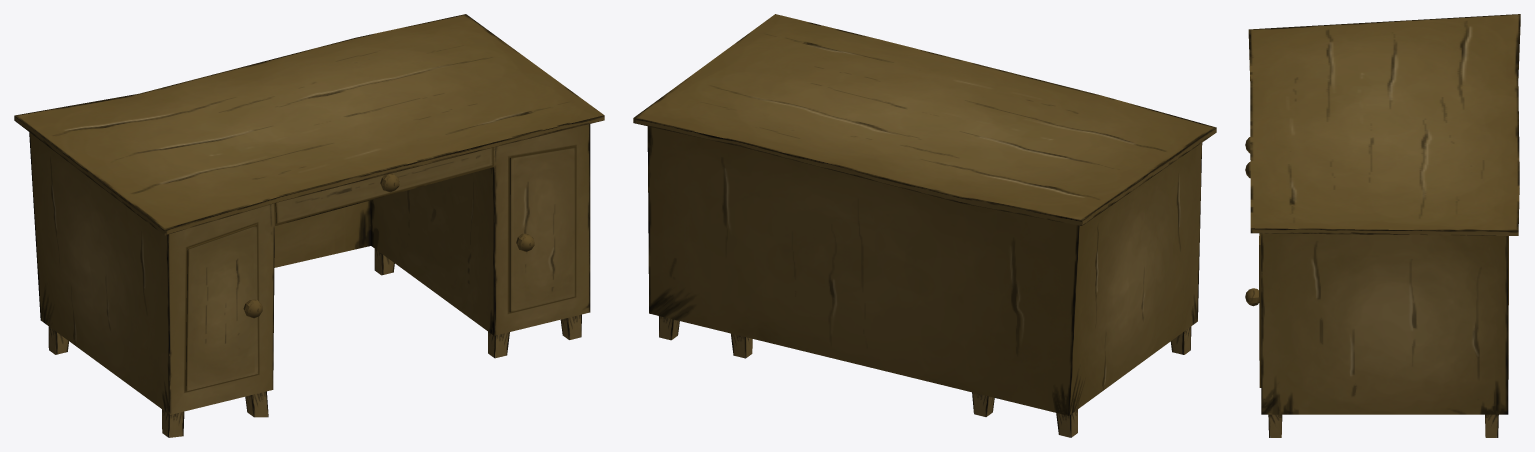
File: Nancy_table.fbx
3 renders of one model, left to right at view 1: azimuth 30°, elevation 25°; view 2: azimuth 150°, elevation 25°; view 3: azimuth 270°, elevation 25°, orthographic. The views are drawn at different scales.
Visible parts, largest first — view 1: Nancy_table; view 2: Nancy_table; view 3: Nancy_table.
Boxes of the visible parts, x1,y1,x2,y2 form: Nancy_table: (14,14,604,437); Nancy_table: (633,14,1216,437); Nancy_table: (1245,14,1520,437).
Size of the model in its own units: 171 by 85.23 by 94.86.
